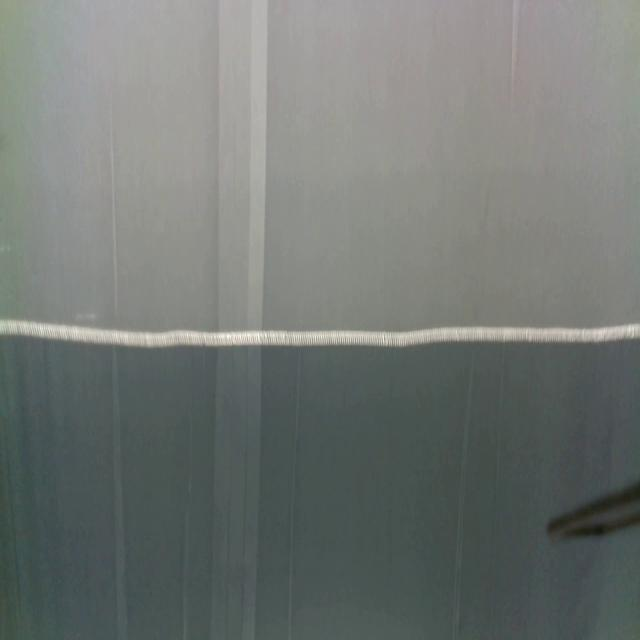crease: (210, 0, 269, 639), (109, 94, 128, 637), (452, 342, 476, 640), (489, 343, 505, 640), (287, 346, 302, 640), (181, 413, 196, 640), (508, 0, 522, 109)
